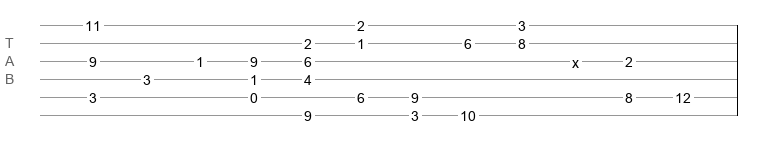0: (250, 90, 258, 100)
1: (196, 54, 204, 64), (250, 72, 258, 82), (357, 36, 365, 46)
10: (460, 108, 476, 118)
11: (85, 18, 101, 28)
12: (675, 90, 691, 100)
2: (304, 36, 312, 46), (357, 18, 365, 28), (625, 54, 633, 64)
3: (89, 90, 97, 100), (143, 72, 151, 82), (411, 108, 419, 118), (518, 18, 526, 28)
4: (304, 72, 312, 82)
6: (304, 54, 312, 64), (357, 90, 365, 100), (464, 36, 472, 46)
8: (518, 36, 526, 46), (625, 90, 633, 100)
9: (89, 54, 97, 64), (250, 54, 258, 64), (304, 108, 312, 118), (411, 90, 419, 100)
x: (572, 55, 579, 63)
